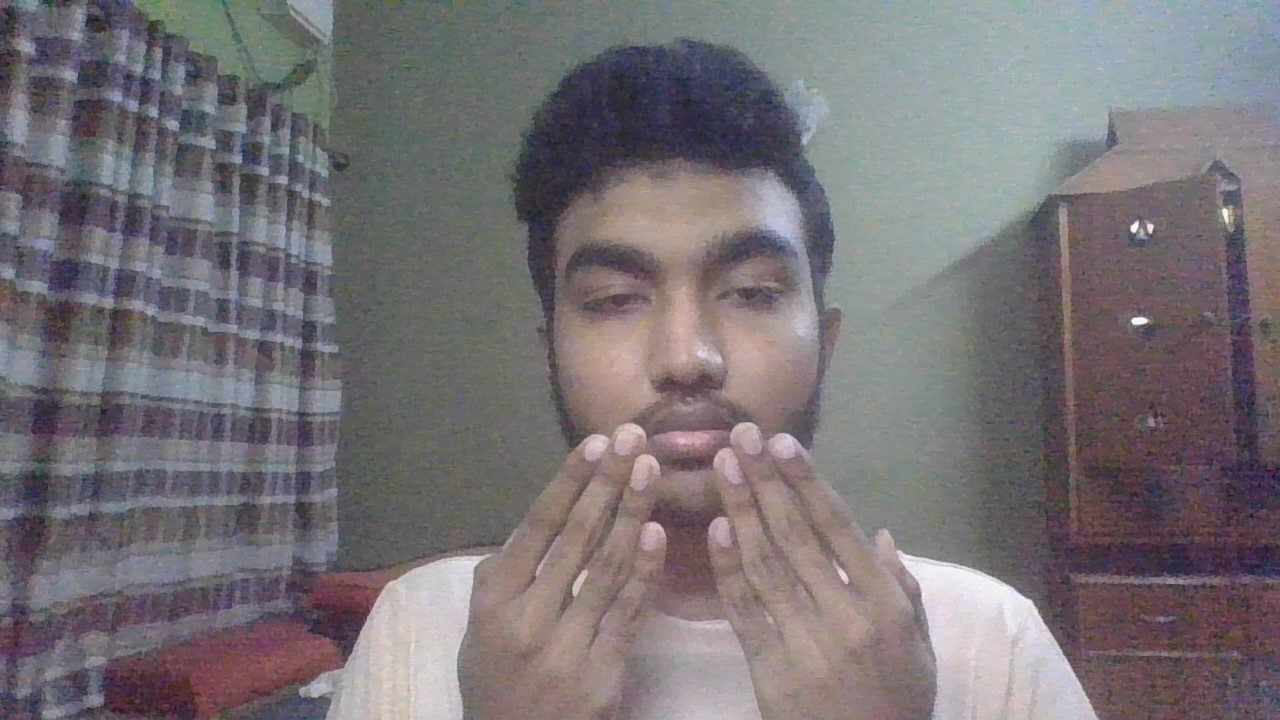Thank You: (452, 414, 951, 720)
